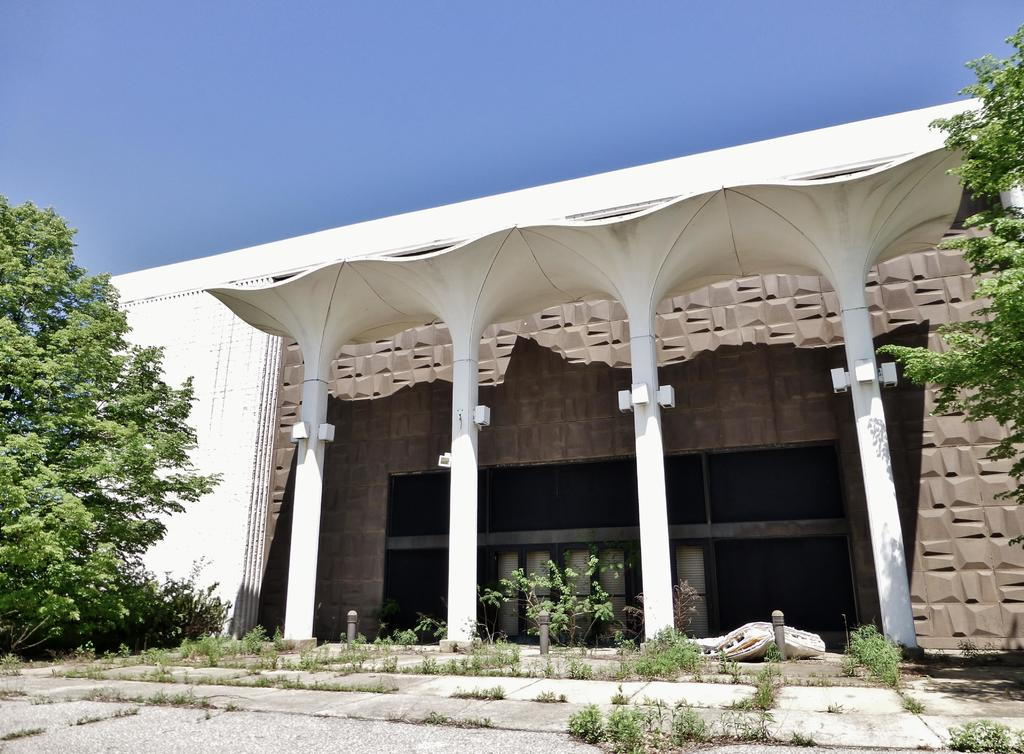Tree: (0, 193, 225, 652), (874, 23, 1023, 550)
